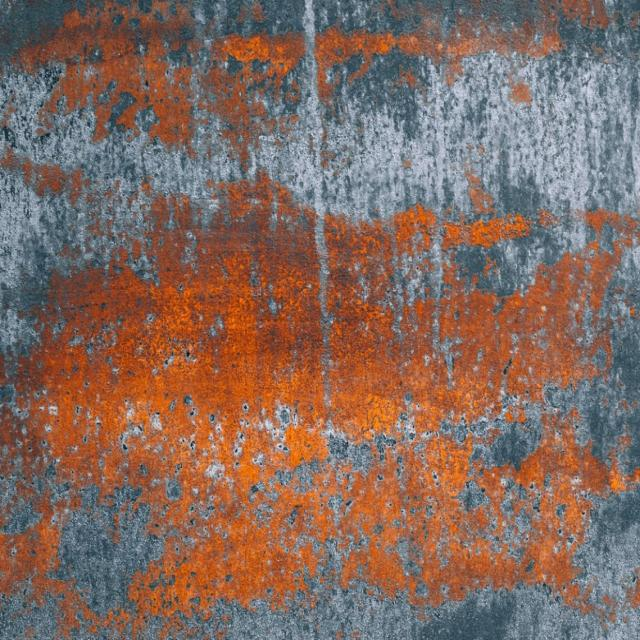Uniform Corrosion: (0, 178, 639, 636), (305, 0, 624, 107), (11, 0, 199, 174), (442, 163, 621, 277), (198, 33, 303, 163), (0, 142, 101, 218), (220, 33, 303, 86)
